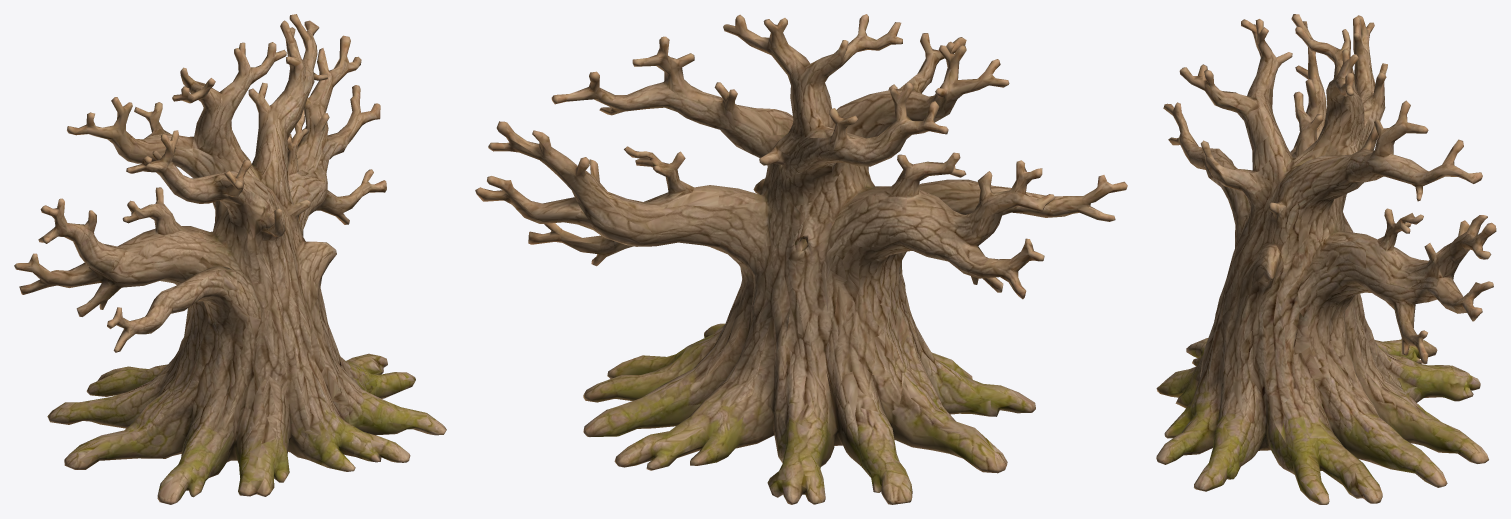
Rendered from deadtree.glb.
The picture shows the model from 3 angles, left to right: view 1: azimuth 30°, elevation 25°; view 2: azimuth 150°, elevation 25°; view 3: azimuth 270°, elevation 25°; orthographic projection. The views are drawn at different scales.
Visible parts, largest first — view 1: deadtree; view 2: deadtree; view 3: deadtree.
Boxes of the visible parts, x1,y1,x2,y2 form: deadtree: [14, 14, 446, 504]; deadtree: [475, 14, 1127, 504]; deadtree: [1156, 14, 1496, 504].
Size of the model in its own units: 0.9763 by 0.7888 by 0.6475.
Materials: 1 (1 with a texture image).
